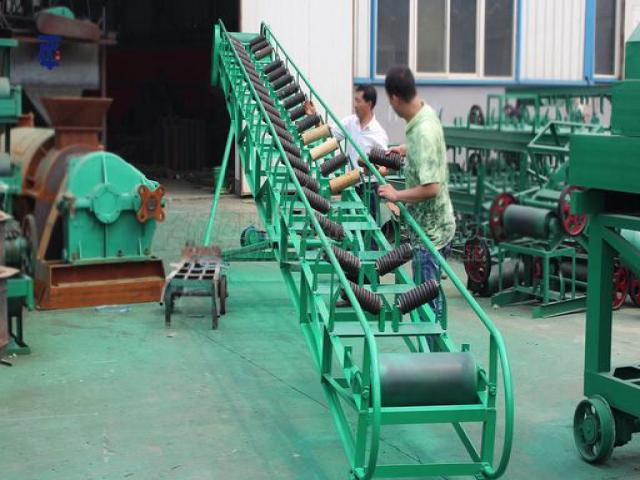conveyor: (205, 18, 516, 479)
